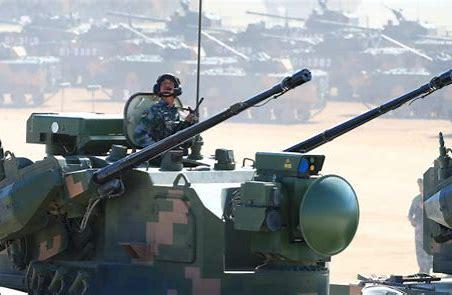MIL_SPG: (0, 70, 452, 294)
